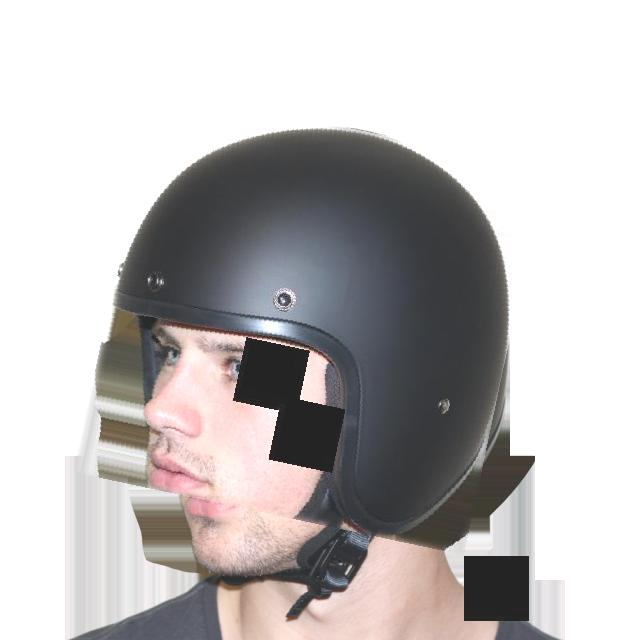helmet: (92, 106, 527, 536)
